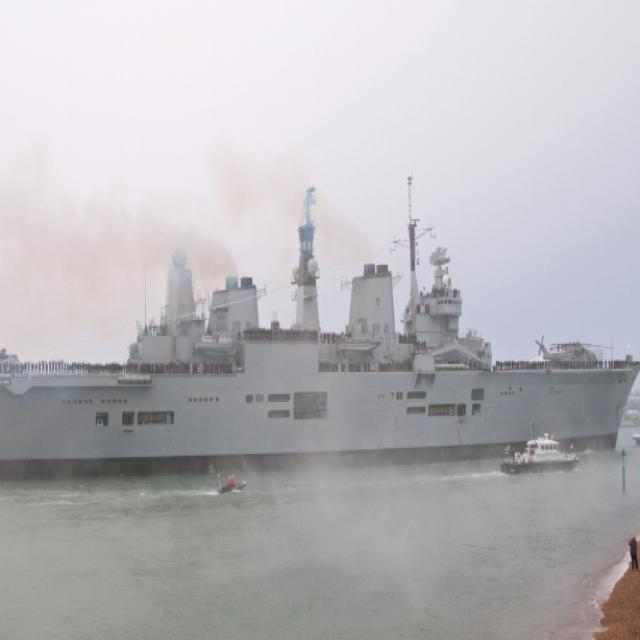Portanaves: (1, 148, 640, 487)
